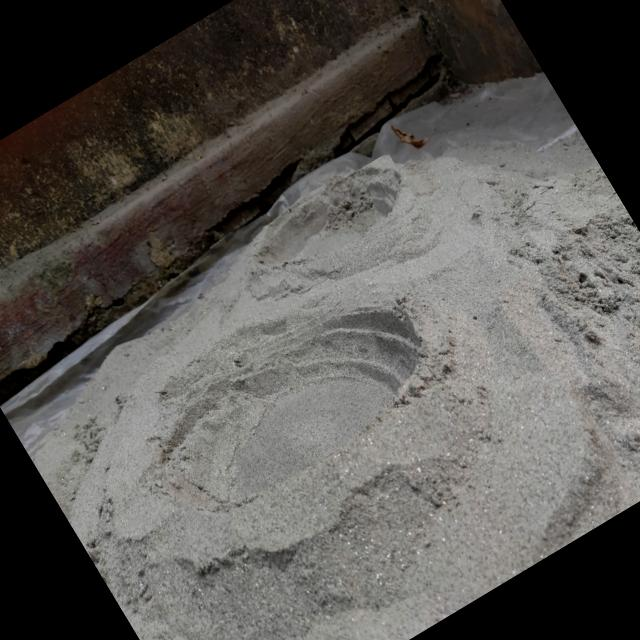C20: (165, 312, 424, 512), (258, 165, 409, 283)
